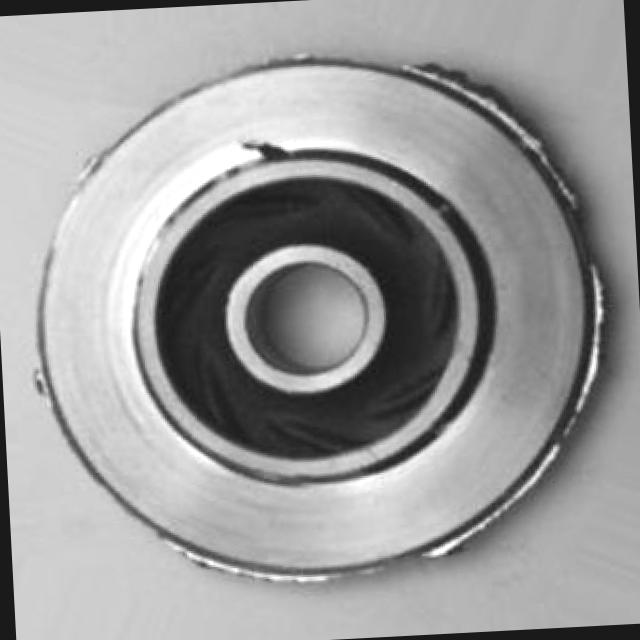Defect: (238, 130, 296, 168)
